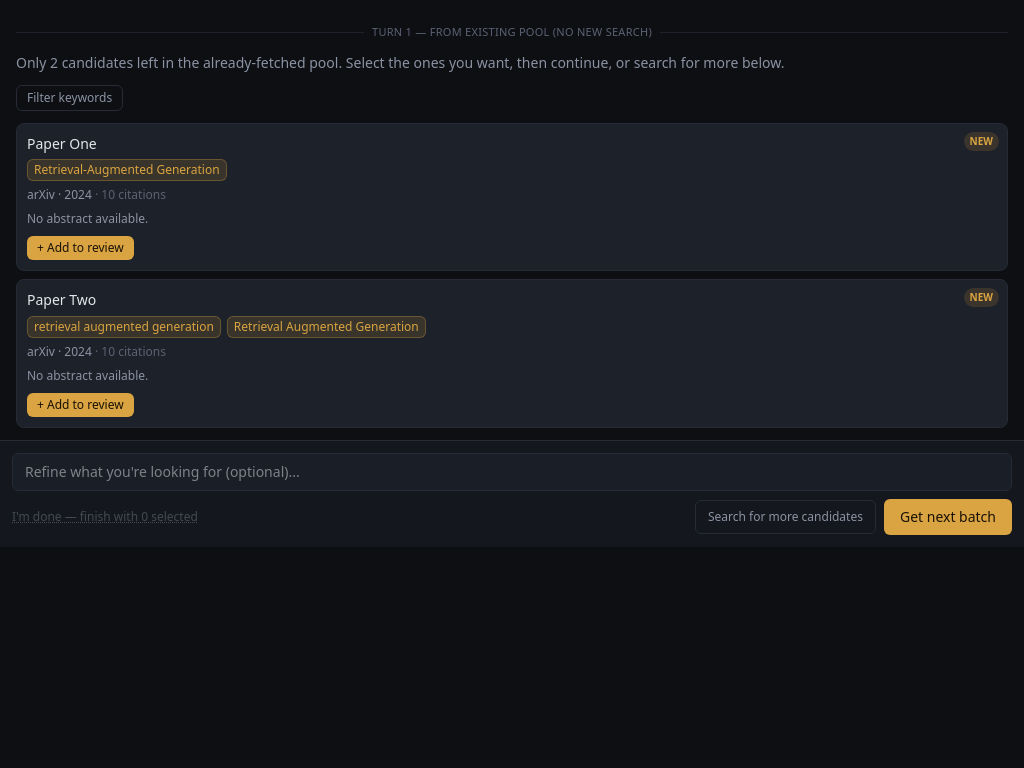
ReviewModePanel -- Paper Keywords and Filtering, K4.2: Popular/Browse-all filter › canonical hyphen/space/case variants merge into one option with a per-paper (not per-occurrence) count
Click the button with test id "keyword-filter-toggle".
click(70, 98)  # box [16,84,123,110]
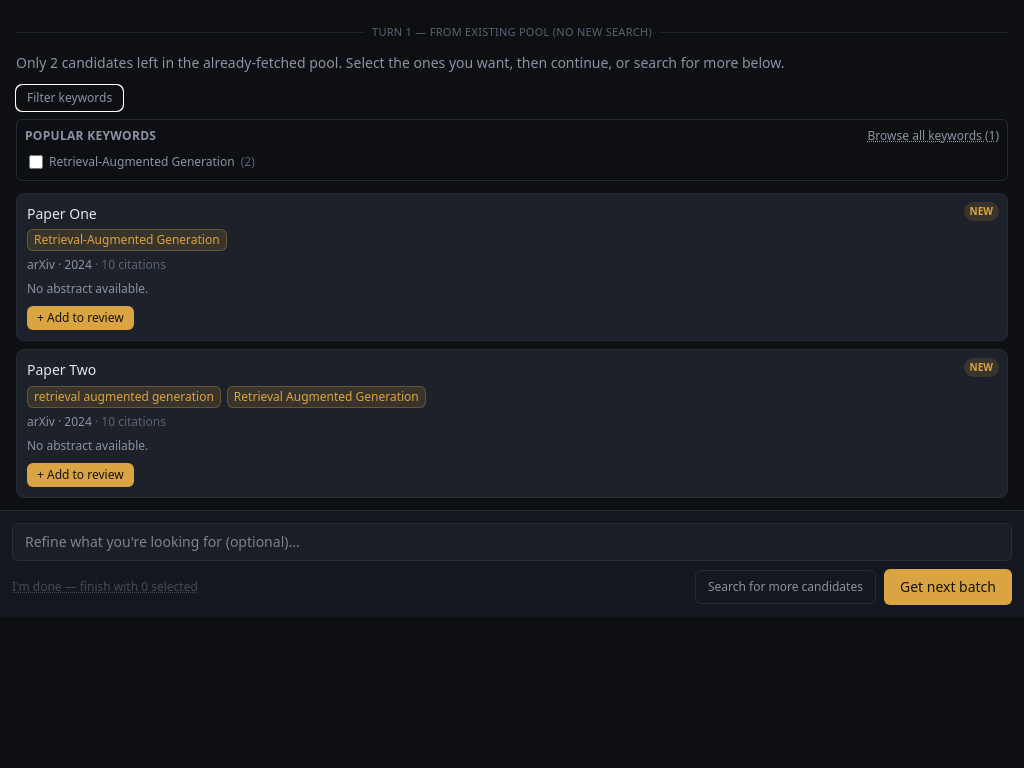
Expected: the label with test id "^keyword-filter-option-" shows "(2)", [29,152,255,170]
